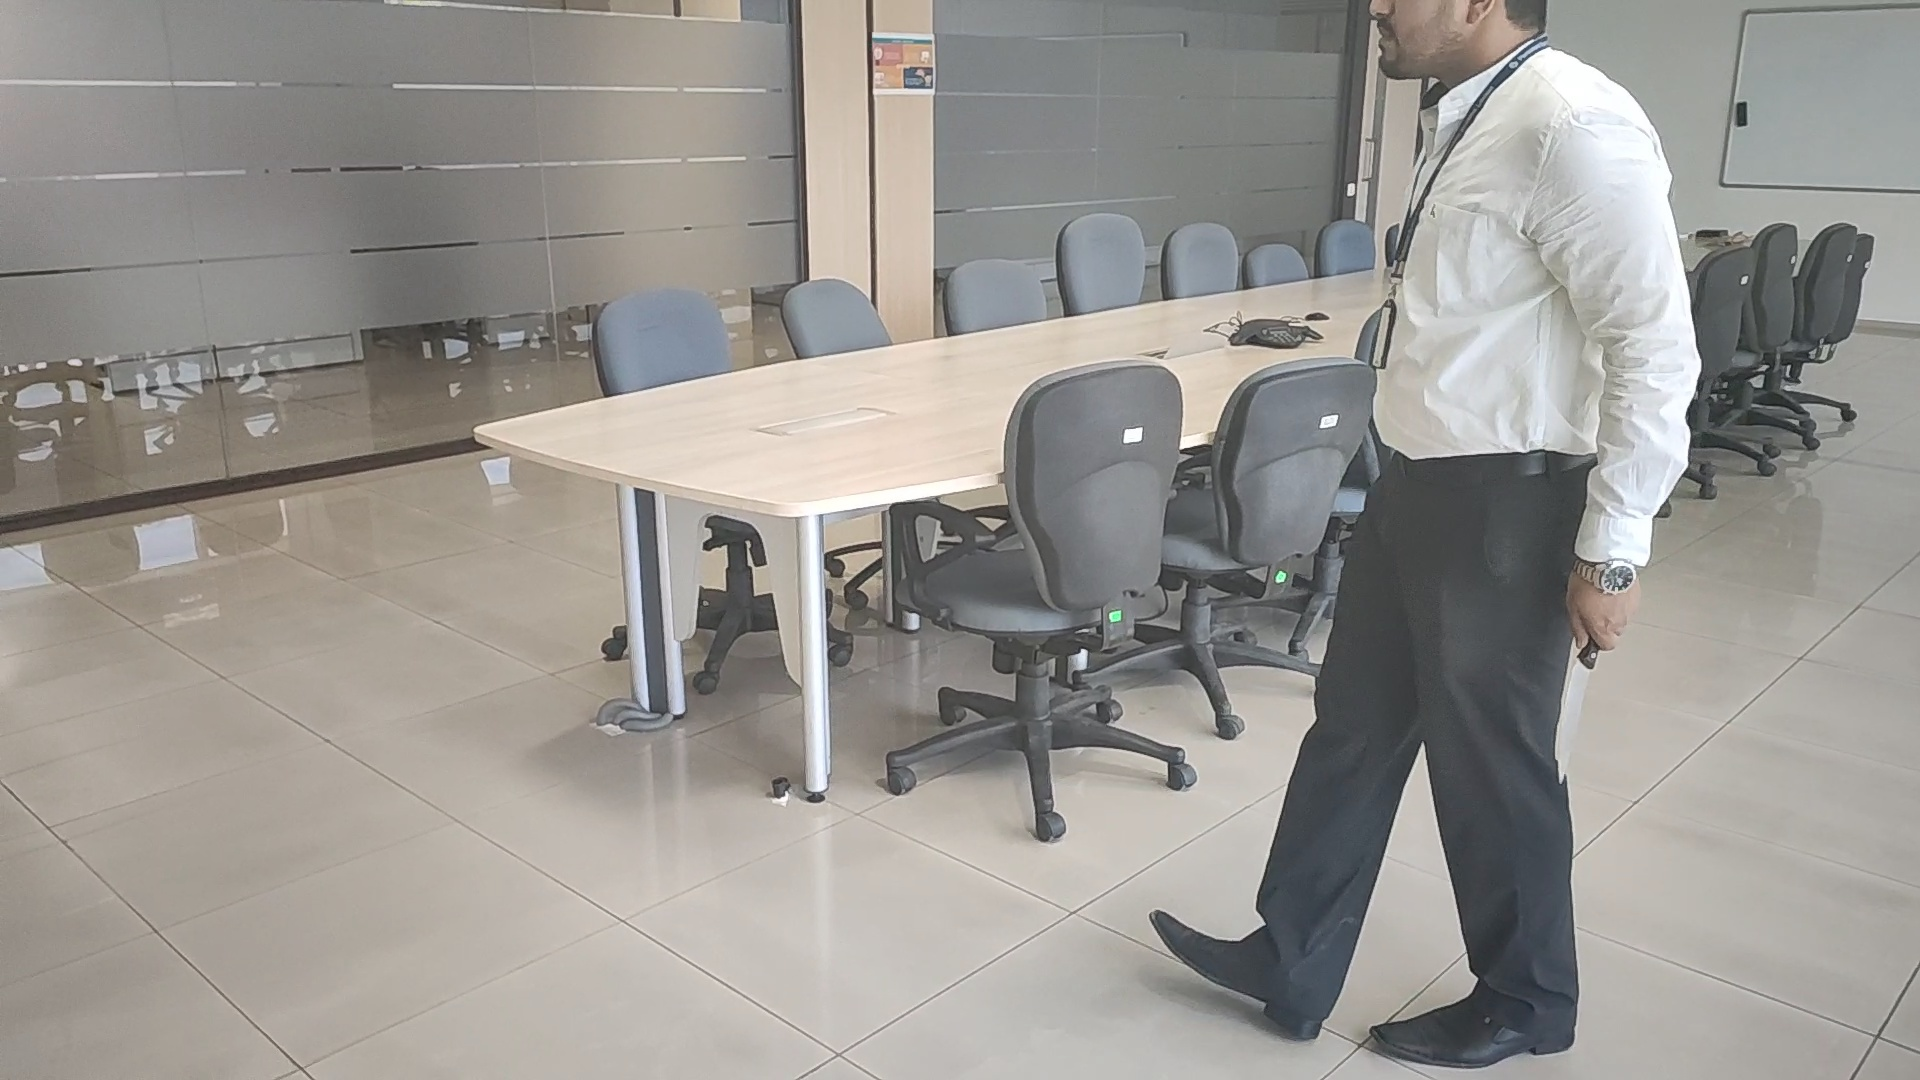knife: (1557, 649, 1596, 785)
